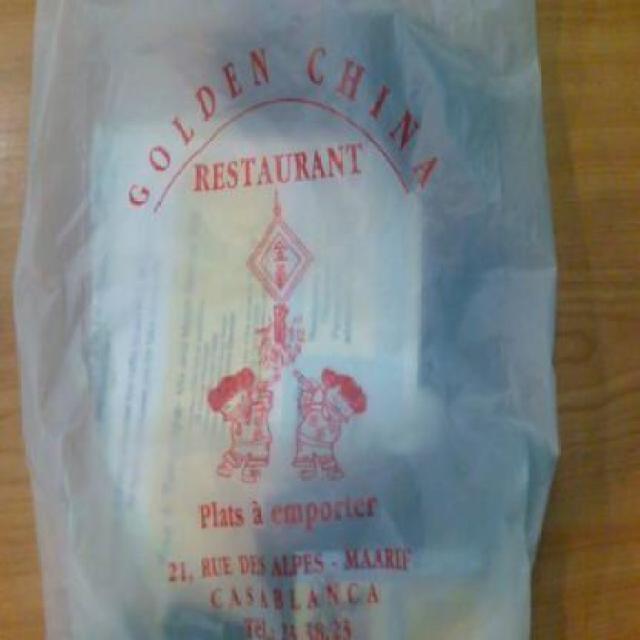plastic bag: (12, 1, 563, 638)
